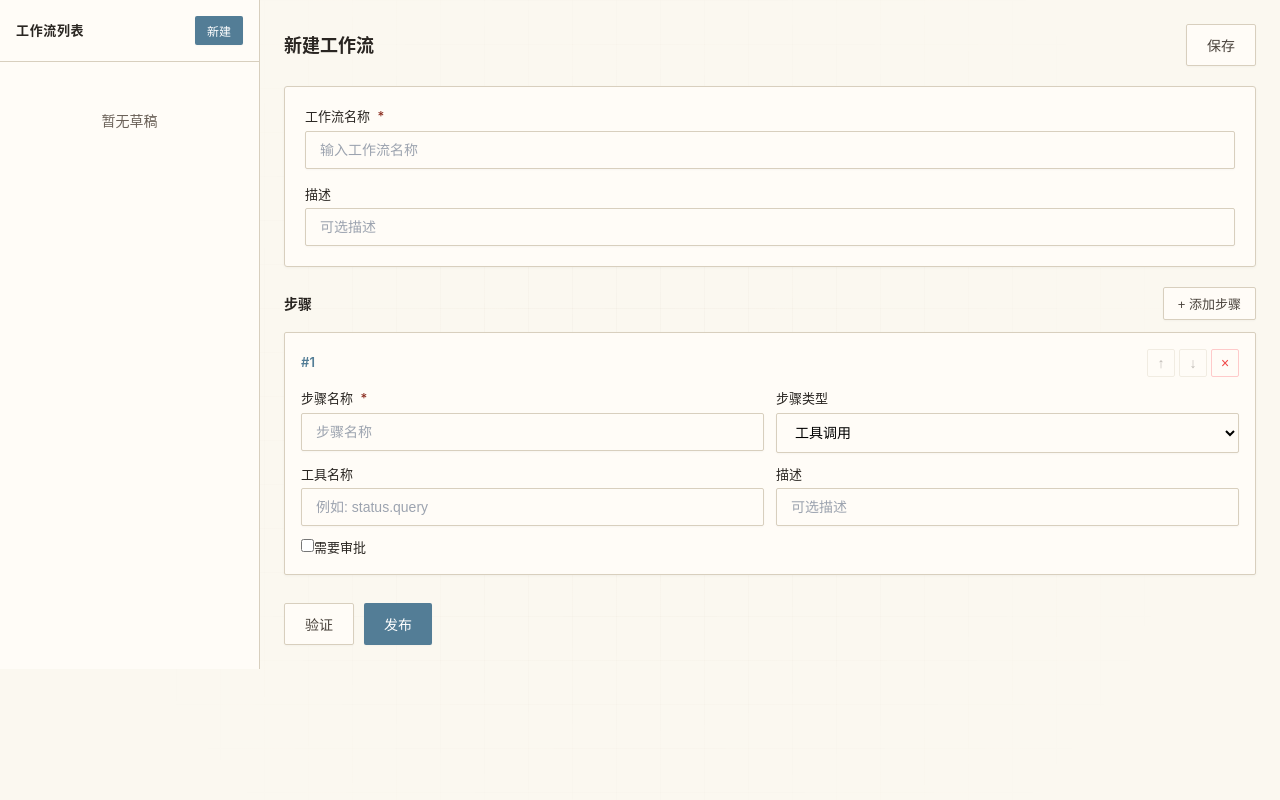
WorkflowsTab › validates missing step name
In the field with test id "workflow-name-input": [770, 150] box left=305, top=130, right=1235, bottom=168, type "Test Workflow"
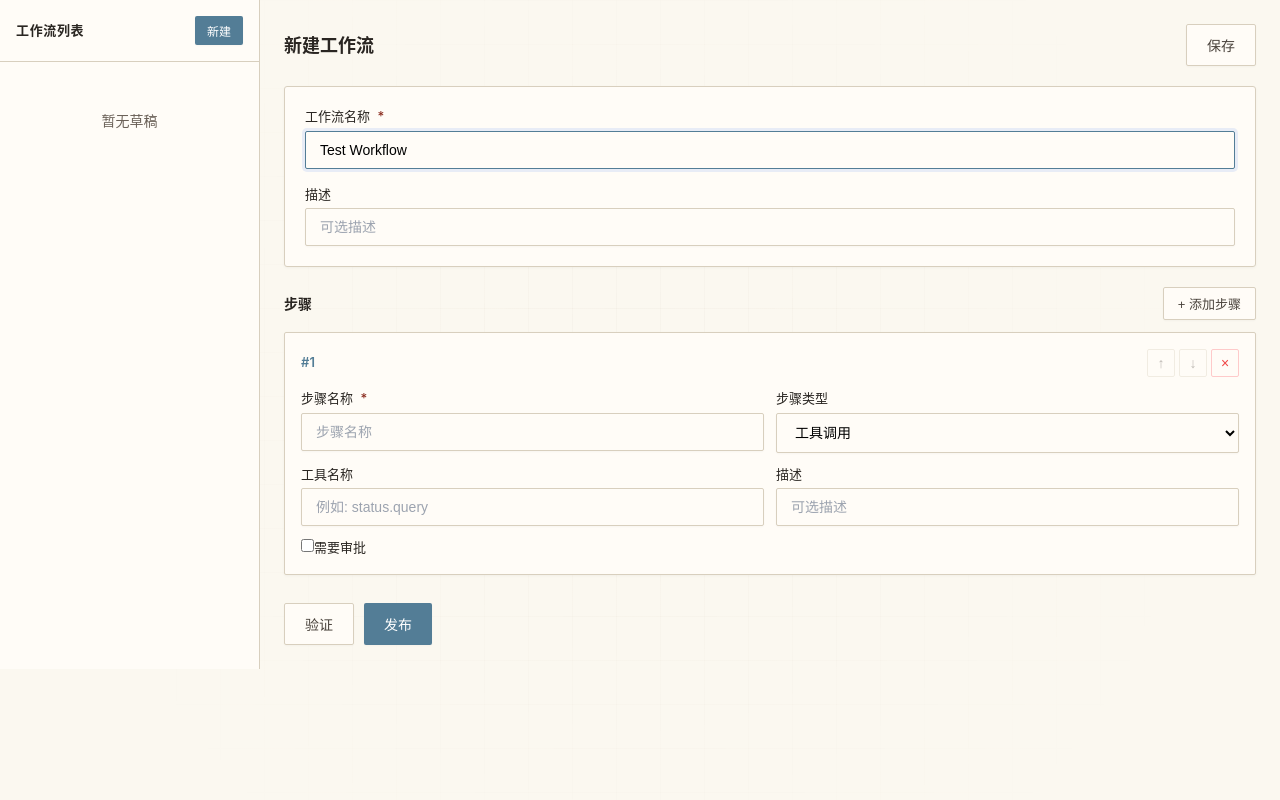
Click the button with test id "workflow-validate": [319, 624] box left=284, top=602, right=354, bottom=644
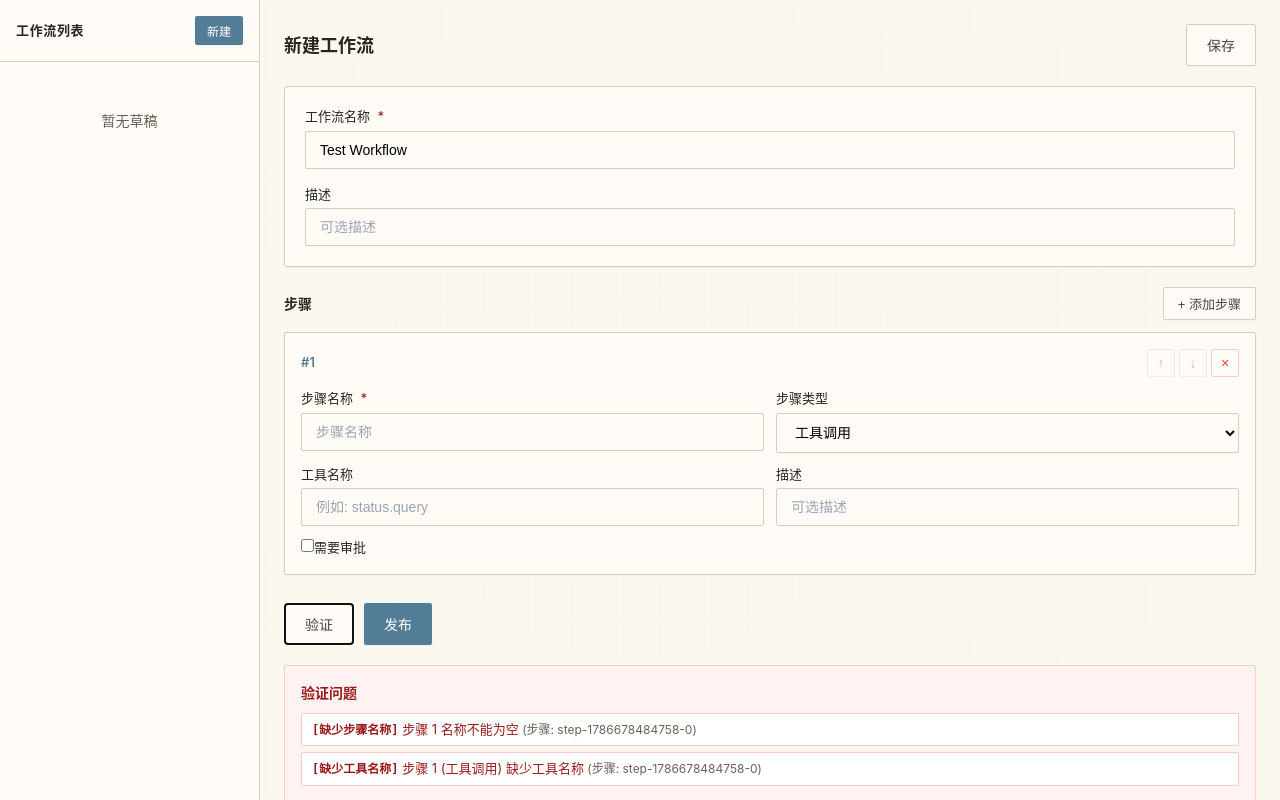
Check: the list item "[缺少步骤名称] 步骤 1 名称不能为空 (步骤: step-1786678484758-0)" is shown, box left=301, top=712, right=1239, bottom=746
